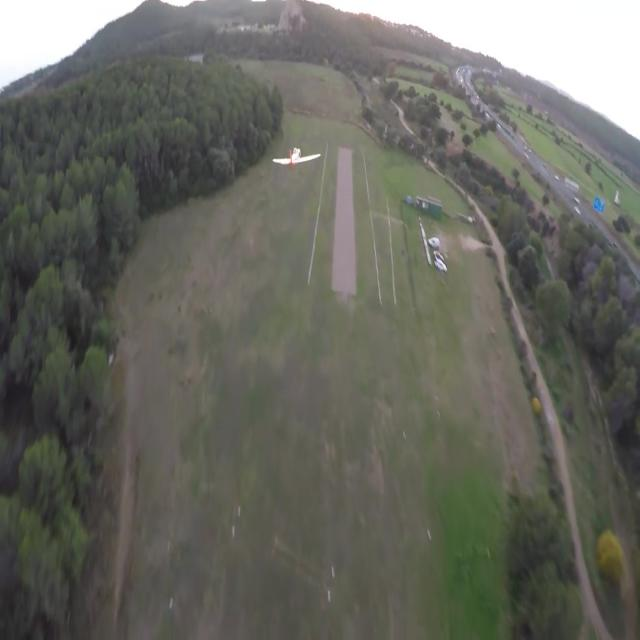iha: (272, 146, 321, 172)
